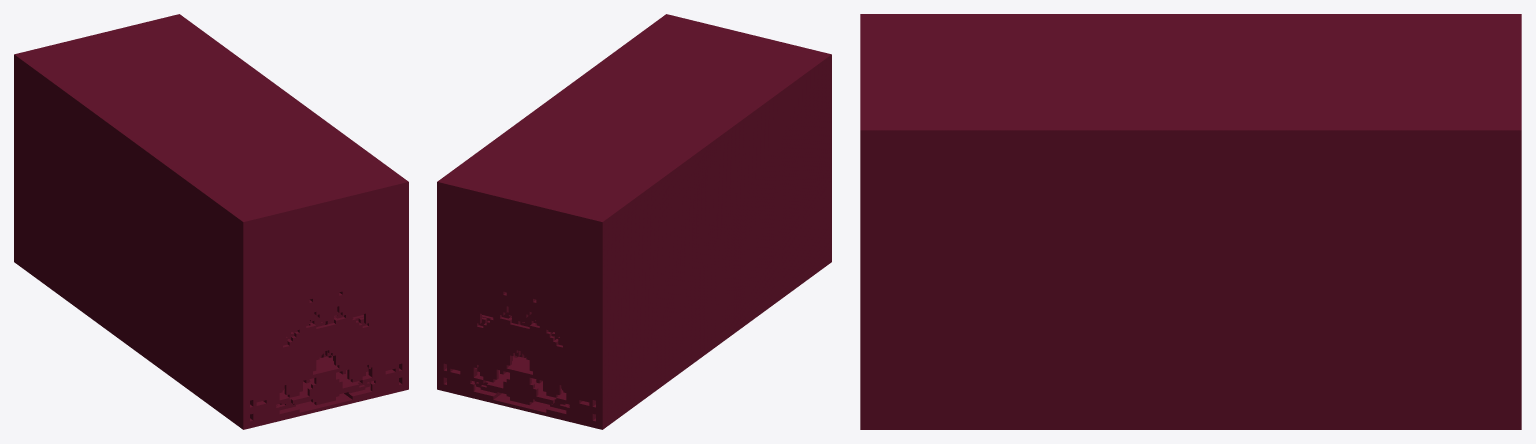
The model's file is wall.fbx.
3 views of the same model, side by side, from view 1: azimuth 30°, elevation 25°; view 2: azimuth 150°, elevation 25°; view 3: azimuth 270°, elevation 25° (orthographic). The views are drawn at different scales.
Parts seen in each view (by area): view 1: lavaMap; view 2: lavaMap; view 3: lavaMap.
Boxes of the visible parts, box(x1,y1,x2,y2) form: lavaMap: box(14, 14, 408, 429); lavaMap: box(437, 14, 831, 429); lavaMap: box(860, 14, 1521, 429).
Size of the model in its own units: 500 by 600 by 1200.
